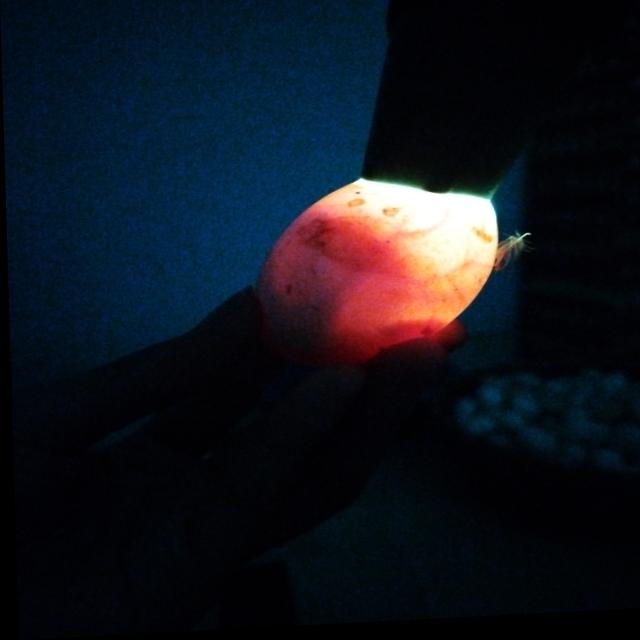Embriao: (249, 256, 436, 370)
